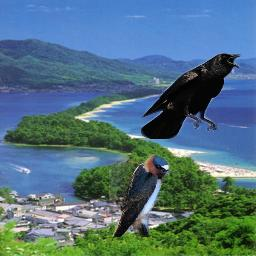Crow: (141, 52, 242, 139)
Swallow: (109, 154, 170, 237)
